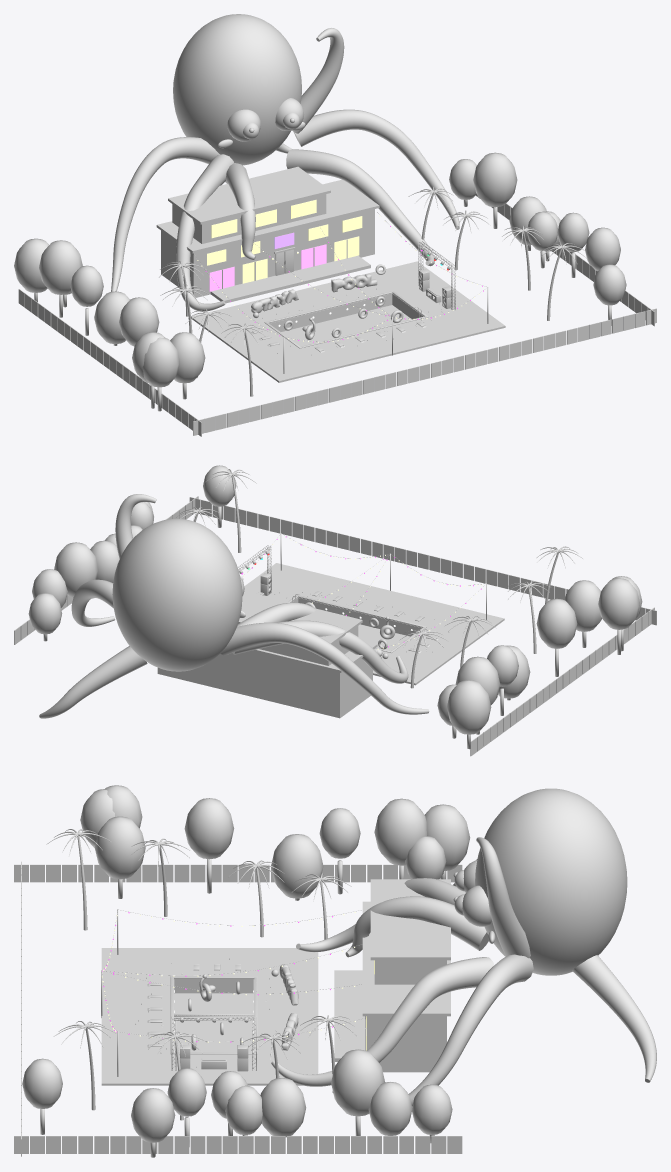
The model's file is pool.glb.
3 views of the same model, one above another, from view 1: azimuth 30°, elevation 25°; view 2: azimuth 150°, elevation 25°; view 3: azimuth 270°, elevation 25° (orthographic). The views are drawn at different scales.
Visible parts, largest first — view 1: far, gloss_static, near, neon_warm, neon_pink; view 2: far, gloss_static, near; view 3: far, gloss_static, near.
Part boxes in pixels (x1,y1,x2,y2): far: [14, 152, 656, 436]; gloss_static: [111, 14, 459, 339]; near: [191, 261, 505, 382]; neon_warm: [207, 199, 362, 283]; neon_pink: [209, 244, 326, 291]; far: [14, 465, 656, 756]; gloss_static: [39, 494, 429, 718]; near: [244, 563, 504, 685]; far: [14, 785, 470, 1157]; gloss_static: [188, 788, 656, 1106]; near: [101, 948, 318, 1085].
Size of what is drawn, in the model's own units: 88.07 by 34.9 by 80.1.
